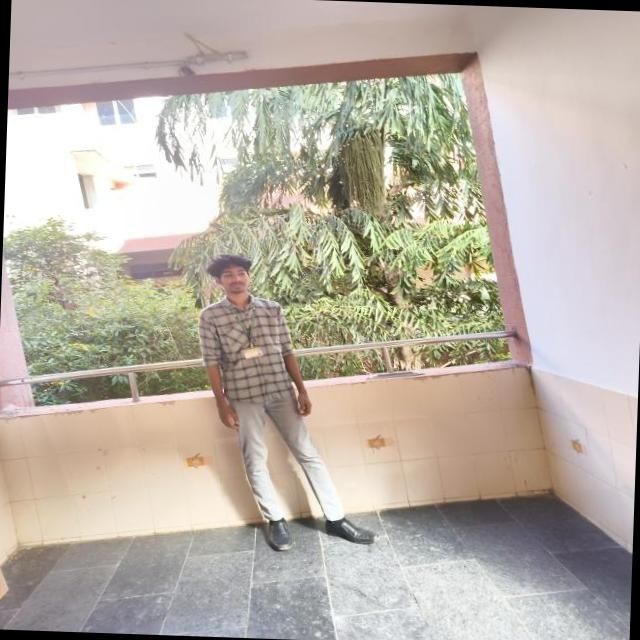id_card: (240, 301, 266, 358)
